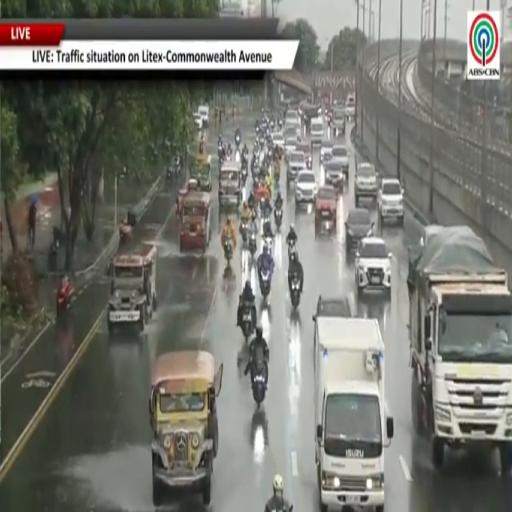car: (355, 237, 391, 293), (345, 207, 374, 252), (378, 179, 404, 226), (312, 296, 356, 322), (315, 186, 337, 236), (313, 296, 355, 321), (355, 163, 378, 205), (295, 170, 317, 205), (324, 160, 345, 191), (332, 144, 350, 179), (287, 151, 306, 181), (420, 224, 444, 246), (298, 142, 312, 169), (310, 118, 324, 145), (332, 107, 345, 136), (344, 94, 356, 120), (285, 109, 301, 126), (285, 119, 300, 137), (320, 139, 332, 161), (285, 137, 297, 157), (198, 105, 209, 126), (284, 125, 298, 141), (272, 133, 284, 148), (194, 112, 202, 130), (321, 153, 332, 166)
jeepney: (149, 351, 223, 506), (179, 190, 211, 251), (218, 161, 242, 207), (190, 155, 212, 191)
motorcycle: (251, 362, 268, 408), (56, 279, 74, 316), (241, 308, 254, 342), (119, 221, 133, 246), (48, 240, 59, 271), (259, 269, 270, 298), (290, 279, 300, 309), (248, 233, 257, 259), (224, 237, 232, 264), (240, 222, 247, 247), (274, 208, 282, 229), (288, 242, 297, 260), (241, 160, 247, 184), (234, 150, 241, 164), (218, 143, 223, 161), (235, 134, 241, 148), (270, 120, 275, 130)
truck: (408, 227, 511, 470), (314, 317, 393, 511), (108, 244, 157, 332)
